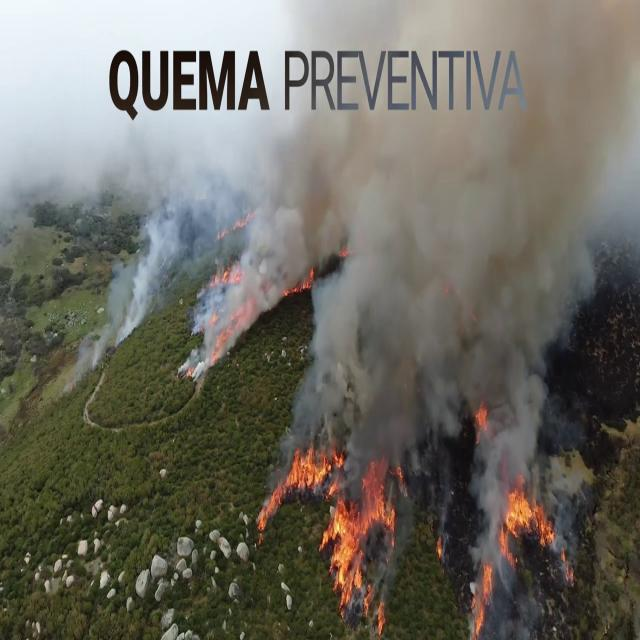Fire: (322, 455, 396, 615), (497, 477, 556, 559), (286, 437, 334, 499), (468, 554, 496, 634)
Smoke: (273, 0, 640, 478), (74, 169, 192, 395)
